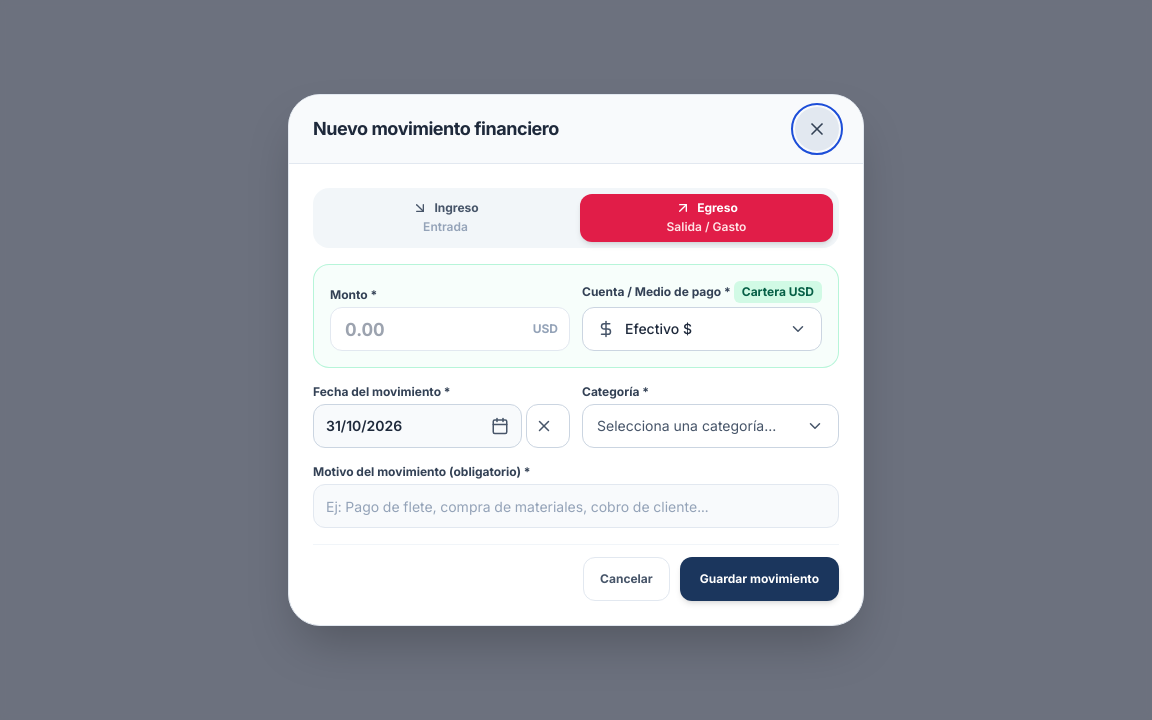
Test: MovimientoForm — borrado de categoría desde el selector › muestra el botón Eliminar por categoría dentro del dropdown
Click the dropdown labelled "Selecciona una categoría...". click: x=710, y=426
box: [582, 404, 839, 448]
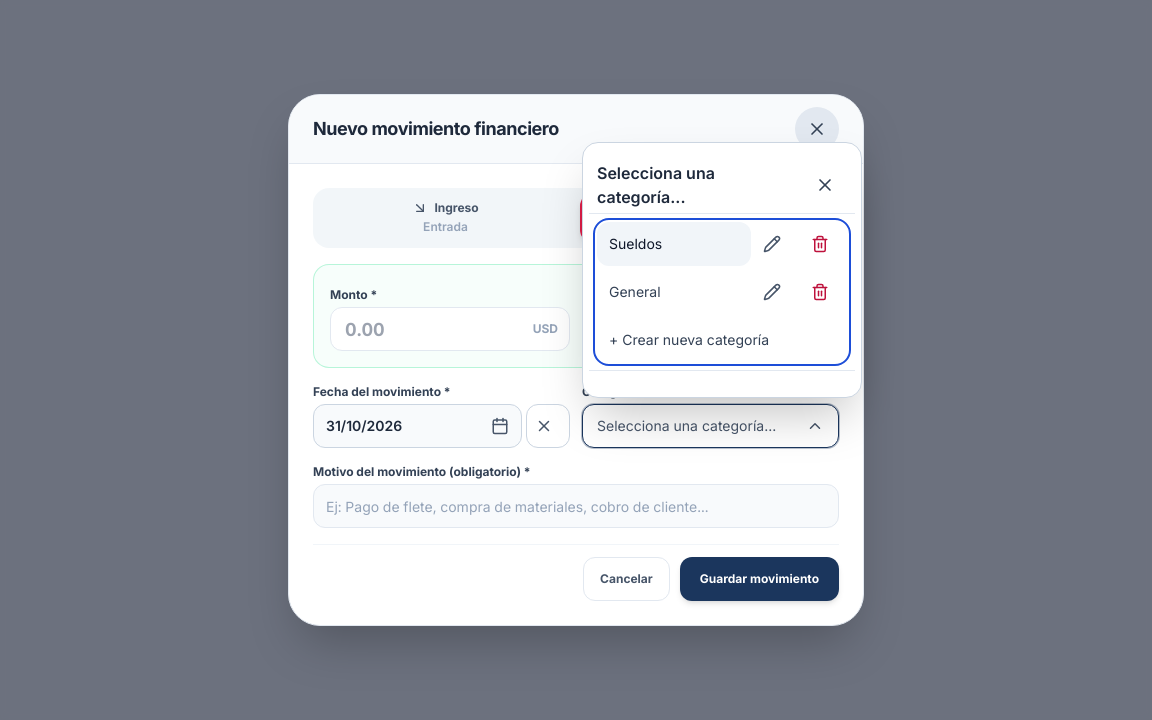
Check: the button named "eliminar sueldos" is shown, box [803, 222, 847, 266]
Check: the button named "eliminar general" is shown, box [803, 270, 847, 314]
